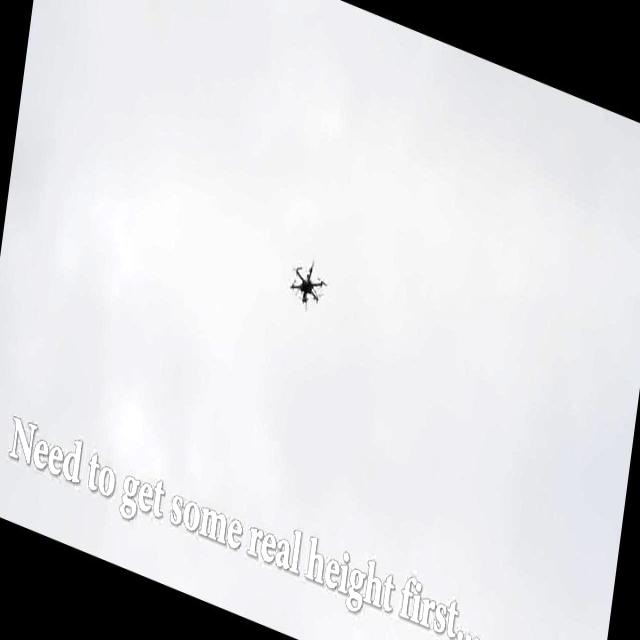drone: (287, 252, 331, 319)
